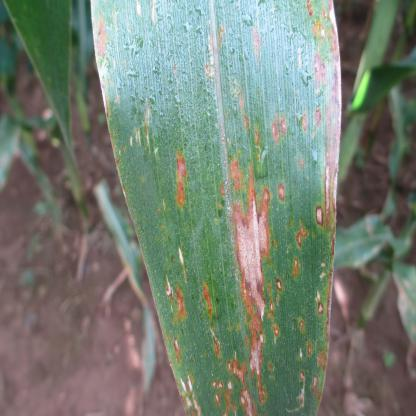Corn leaf blight: (85, 0, 351, 414)
